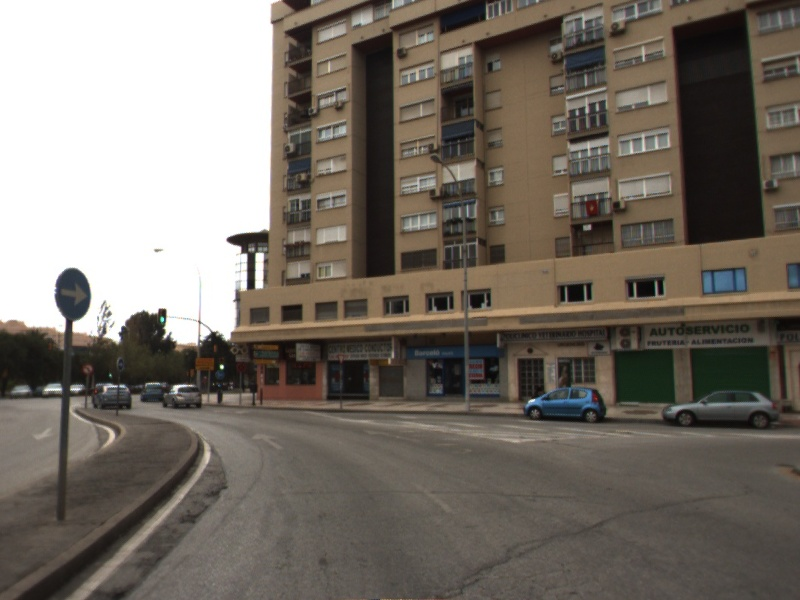STRAIGHT: (249, 430, 287, 451)
